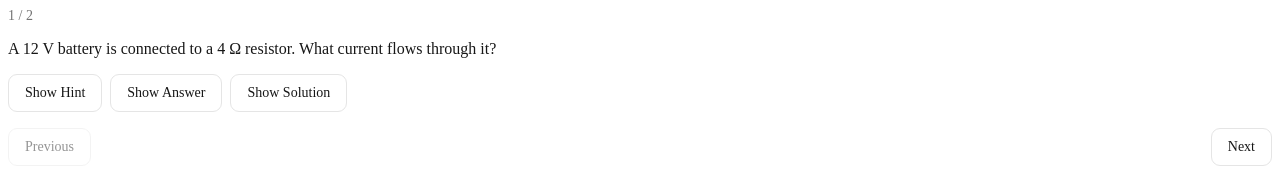
PracticeProblems › disables navigation at boundaries
The width and height of the screenshot is (1280, 183).
Expected: the button "Previous" is disabled, [8,128,91,166]
Step 1. Click the button "Next" → point(1241, 147), box [1211,128,1272,166]
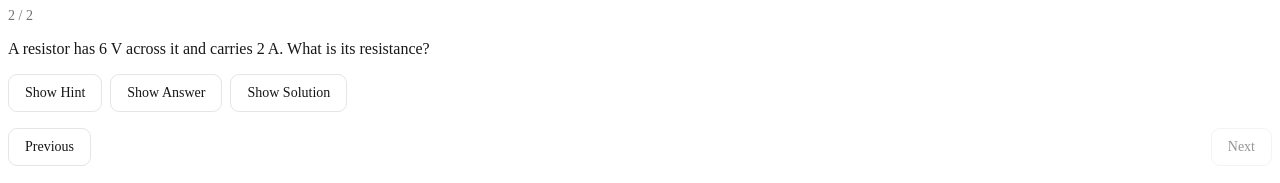
Now the button "Next" is disabled, box [1211,128,1272,166]
Now the button "Previous" is enabled, box [8,128,91,166]
